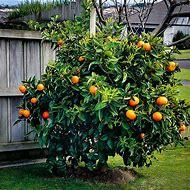orange: (122, 110, 143, 125), (133, 95, 144, 109), (69, 75, 79, 83), (38, 86, 47, 90)
